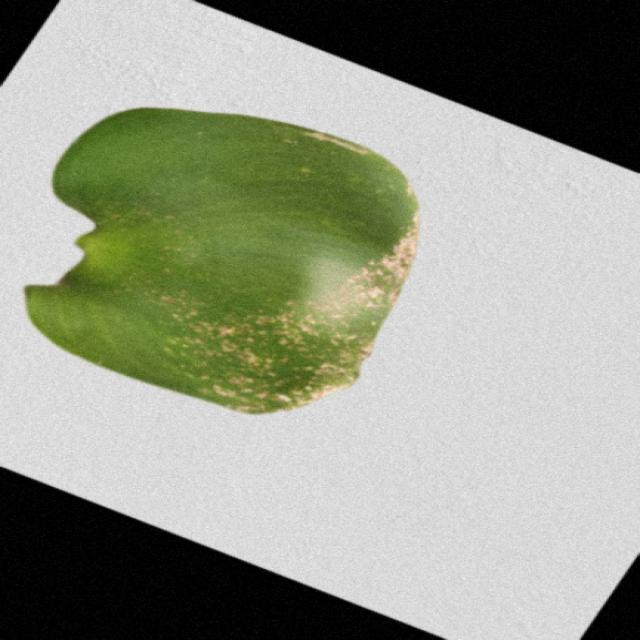daun berpenyakit bercak: (25, 109, 418, 413)
